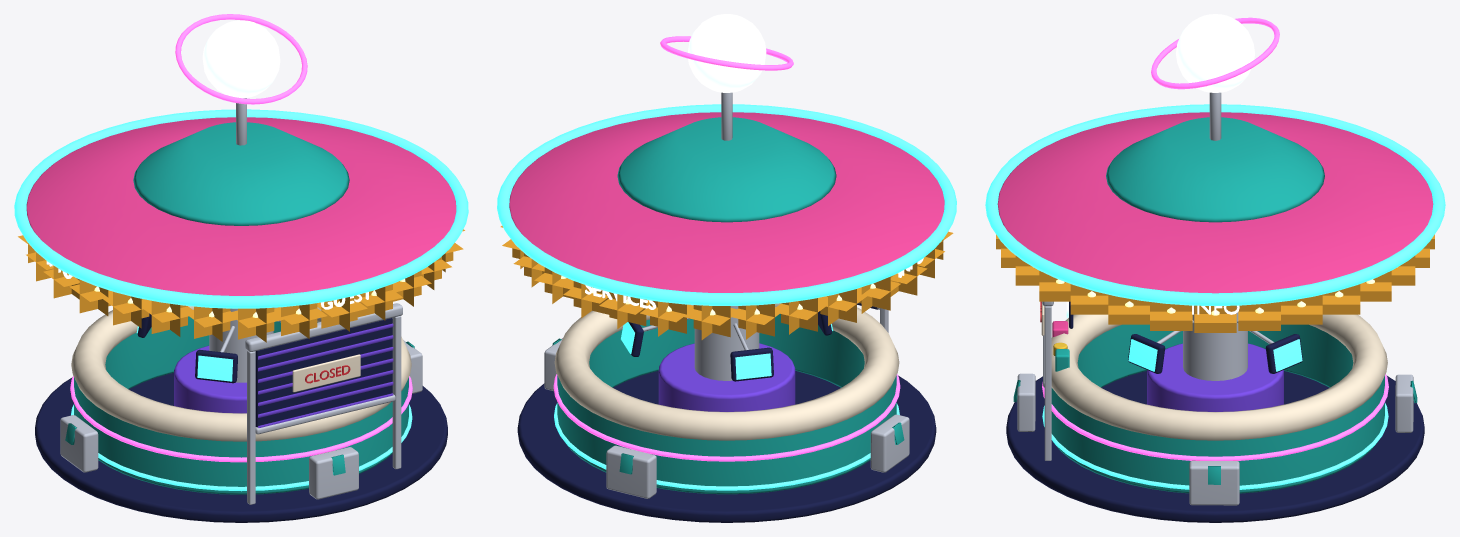
File: mall_station.glb
3 renders of one model, left to right at view 1: azimuth 30°, elevation 25°; view 2: azimuth 150°, elevation 25°; view 3: azimuth 270°, elevation 25°, orthographic.
Parts seen in each view (by area): view 1: Station, Shutter, SpinMoon, ShutterFrame, ClosedSign; view 2: Station, SpinMoon; view 3: Station, SpinMoon, ShutterFrame, OpenDressing.
Part boxes in pixels (box(x1,y1,x2,y2)): Station: box(14, 98, 468, 522); Shutter: box(255, 318, 395, 434); SpinMoon: box(175, 14, 307, 104); ShutterFrame: box(245, 303, 402, 504); ClosedSign: box(292, 354, 360, 392); Station: box(497, 92, 956, 522); SpinMoon: box(660, 14, 793, 92); Station: box(985, 92, 1445, 522); SpinMoon: box(1151, 14, 1279, 92); ShutterFrame: box(1042, 301, 1053, 460); OpenDressing: box(1052, 301, 1073, 371).
Bounding box in the file's own units: 6.38 × 6.4 × 6.38.
